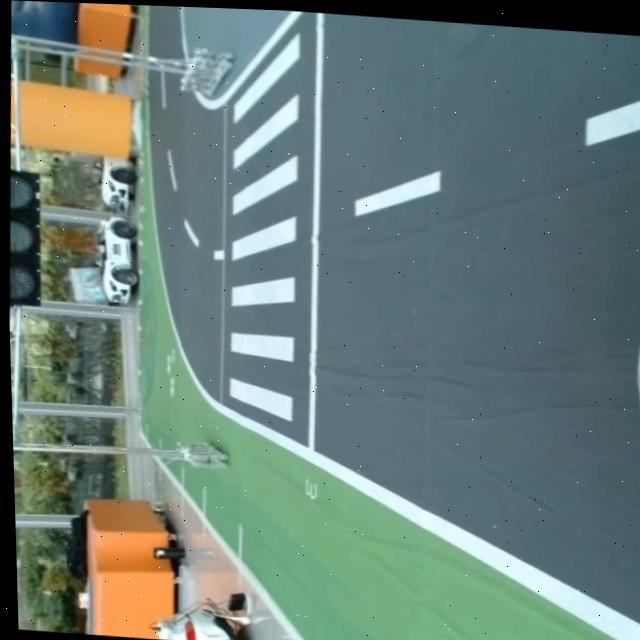traffic-light: (5, 161, 51, 314)
